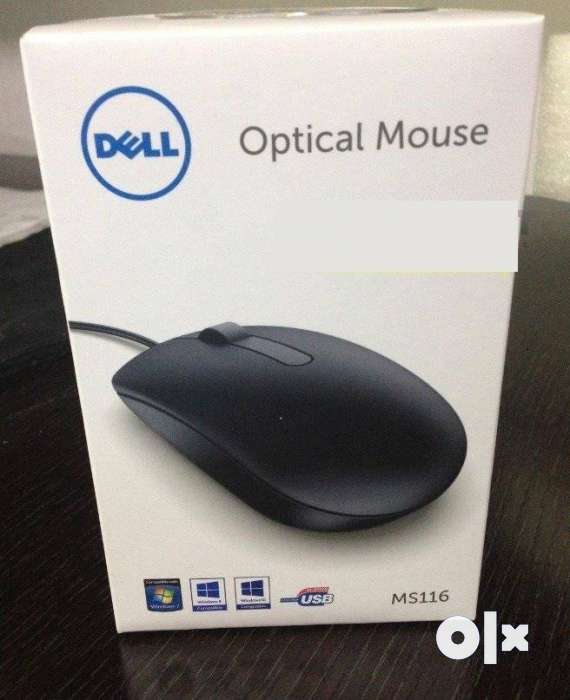dell-mouse-ms116: (60, 296, 481, 535)
